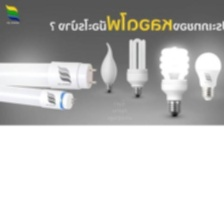light_bulb: (0, 58, 102, 91), (158, 43, 191, 121), (0, 80, 77, 111), (123, 35, 149, 99), (193, 51, 224, 103), (98, 39, 119, 95)
